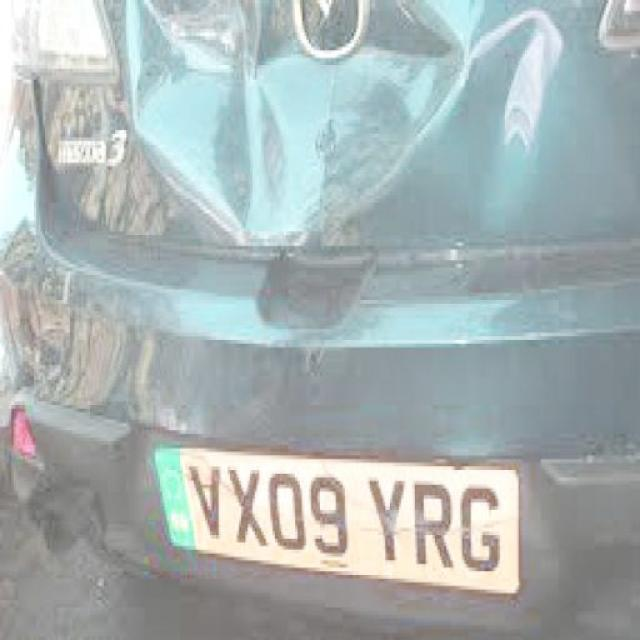car damage: (122, 0, 578, 247)
